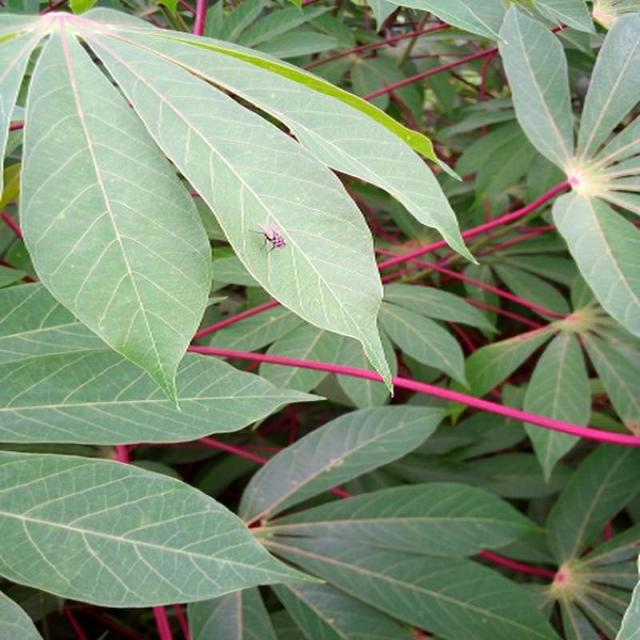cassava leaf: (6, 6, 474, 413), (17, 15, 214, 411), (0, 448, 326, 609)
